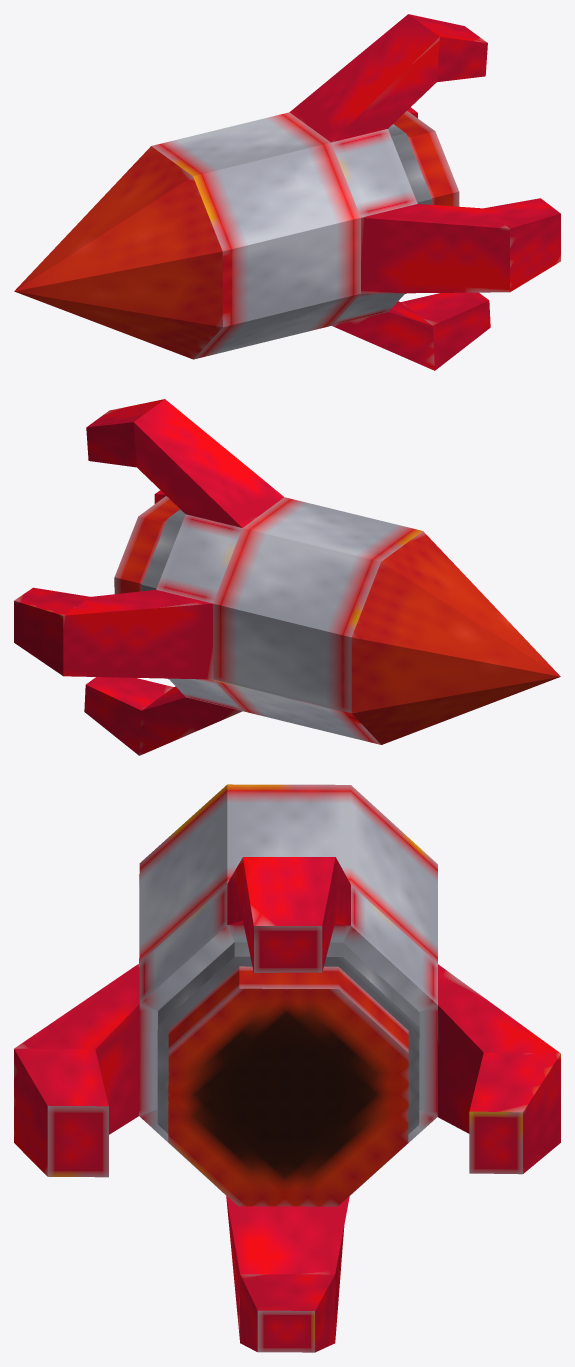
Rendered from projetil destrutivo.fbx.
3 views of the same model, one above another, from view 1: azimuth 30°, elevation 25°; view 2: azimuth 150°, elevation 25°; view 3: azimuth 270°, elevation 25° (orthographic). The views are drawn at different scales.
Visible parts, largest first — view 1: Cylinder; view 2: Cylinder; view 3: Cylinder.
Part boxes in pixels (x1=…): Cylinder: x1=14, y1=14, x2=560, y2=370; Cylinder: x1=14, y1=399, x2=560, y2=755; Cylinder: x1=14, y1=784, x2=560, y2=1352.
Bounding box in the file's own units: 676 × 460 × 465.
